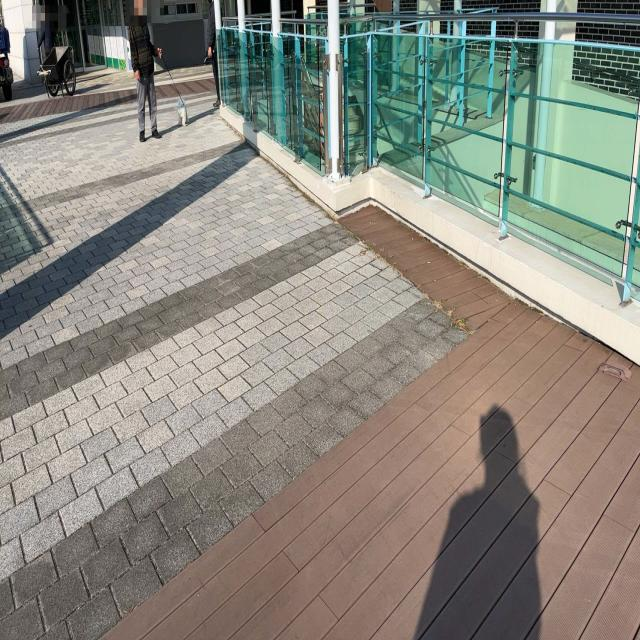Leashed_Dog: (148, 48, 190, 126)
